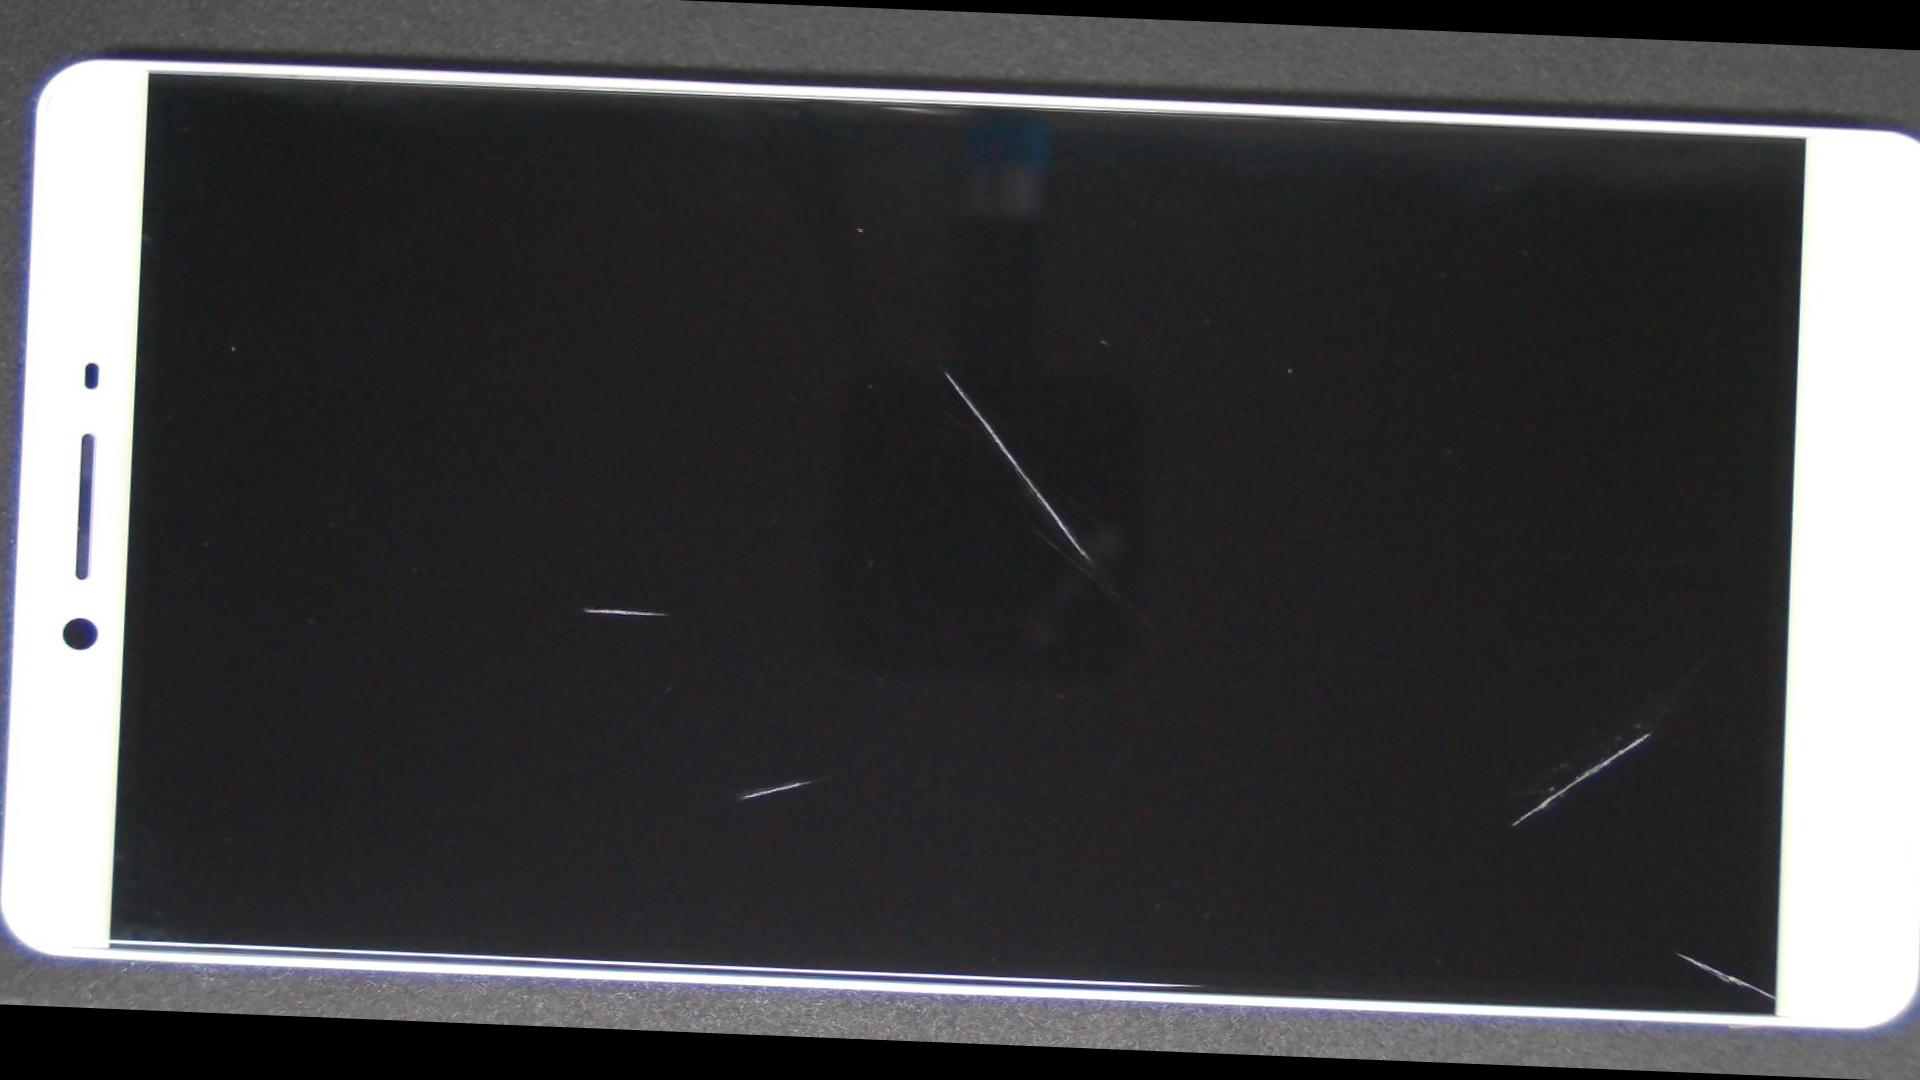oil: (793, 351, 1920, 1080), (810, 462, 1920, 1080), (373, 376, 1254, 1054), (260, 290, 906, 926), (452, 171, 1440, 571)
